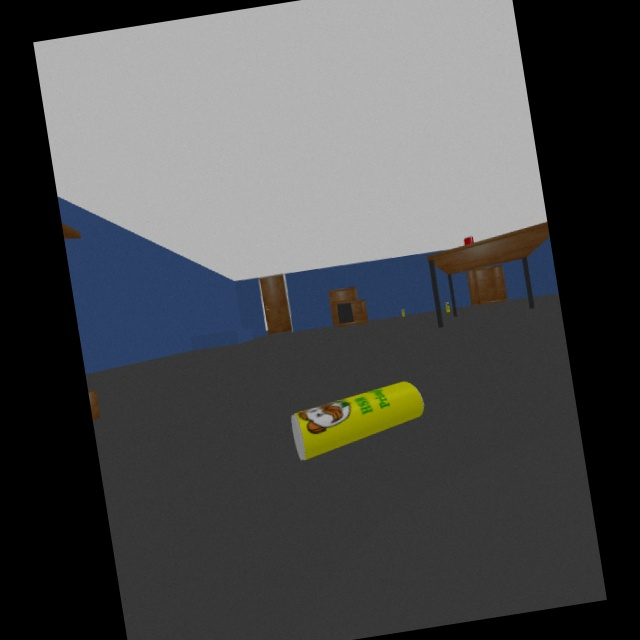chipsdose_gelb: (290, 381, 424, 461), (400, 306, 405, 318), (446, 301, 451, 313)
